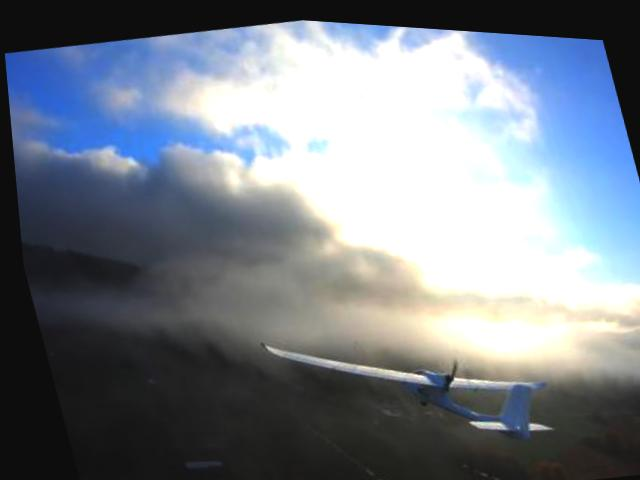uav: (241, 277, 570, 480)
